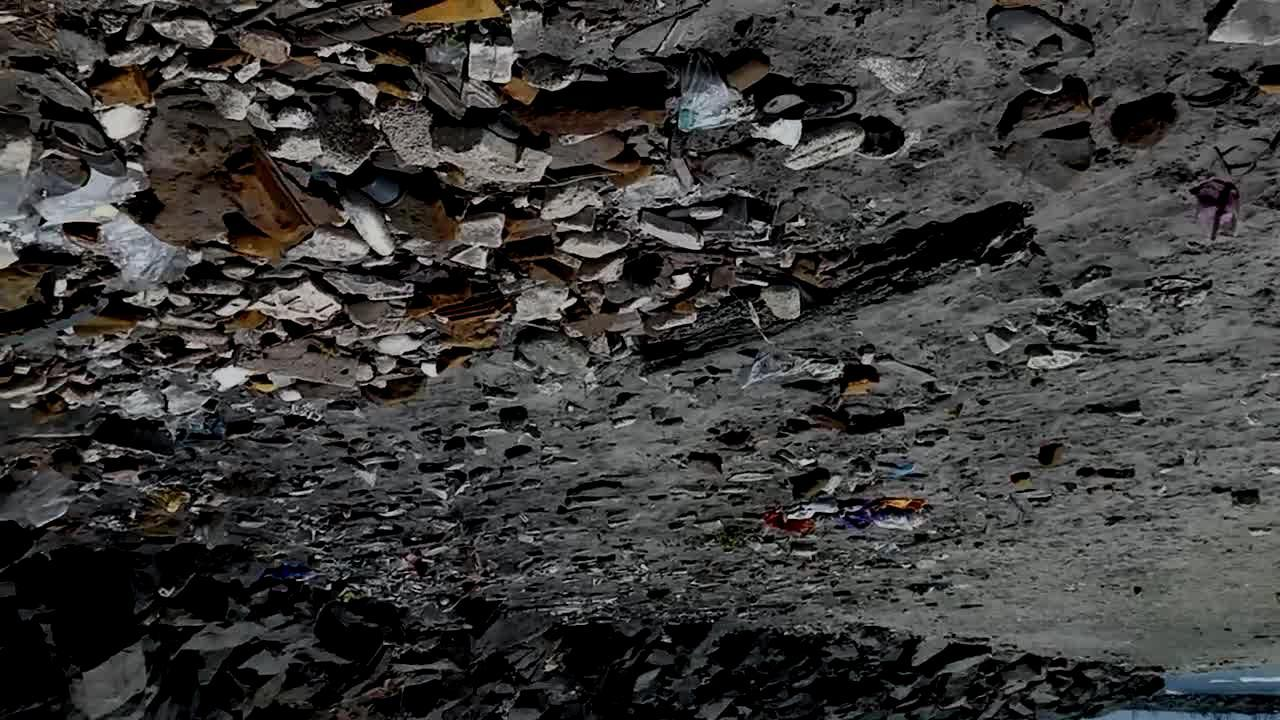large collection of objects: (140, 96, 314, 258), (428, 126, 548, 187)
obj: (636, 204, 1044, 382), (47, 202, 192, 276), (985, 3, 1104, 69), (768, 497, 926, 534), (999, 80, 1094, 138), (384, 182, 456, 243), (406, 282, 504, 322), (761, 88, 870, 119), (86, 60, 148, 107), (387, 1, 507, 25), (1194, 180, 1238, 242), (812, 408, 906, 437), (1114, 100, 1173, 146), (1024, 344, 1081, 370), (712, 522, 757, 552), (841, 366, 880, 396), (1039, 444, 1066, 466), (1010, 474, 1031, 488)
sand/background: (1, 436, 1279, 719)
